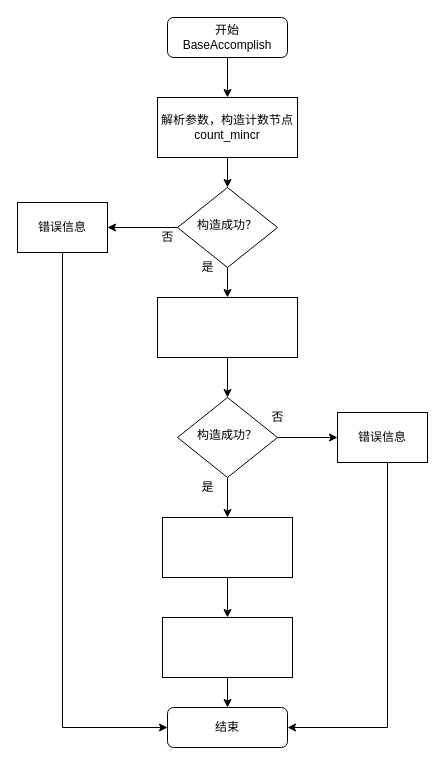
This 445x765 diagram has some shape labels left out. Each missing label, with the centre of its shape:
"获取执行结果" belongs at point 227,647.
"解析参数，构造收益节点wallet_create" belongs at point 227,327.
"调用ByteState执行事务" belongs at point 227,547.
